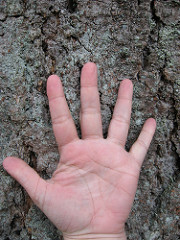palm: (52, 147, 138, 233)
